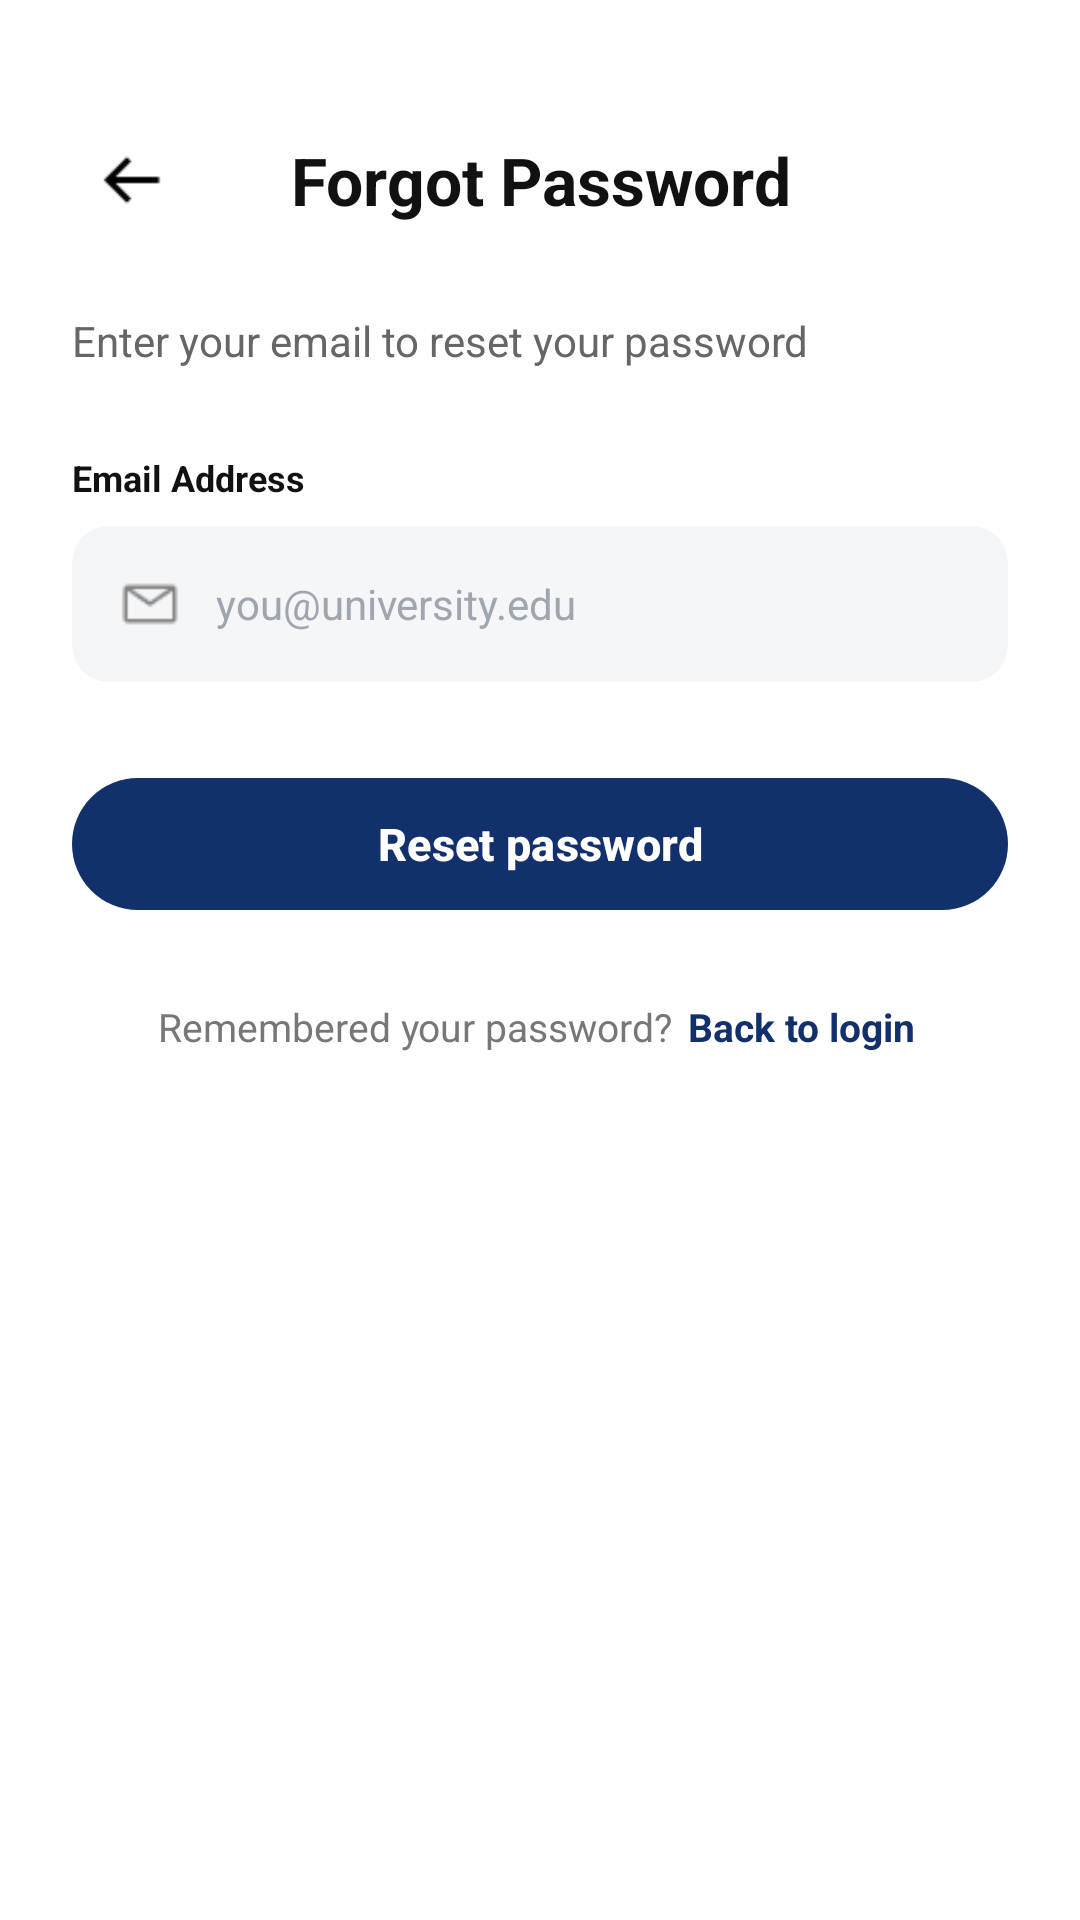

Where icons sit on this 1080px x 1920px app screen, as (x1, y1, x2, y2):
Back: (103, 156, 160, 204)
